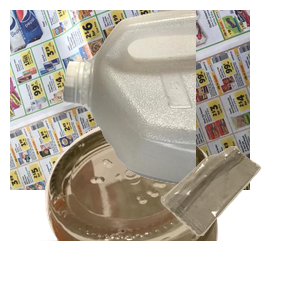glass: (22, 120, 233, 300)
paper: (10, 10, 250, 190)
plastic: (60, 10, 300, 190)
trash: (158, 144, 300, 300)
